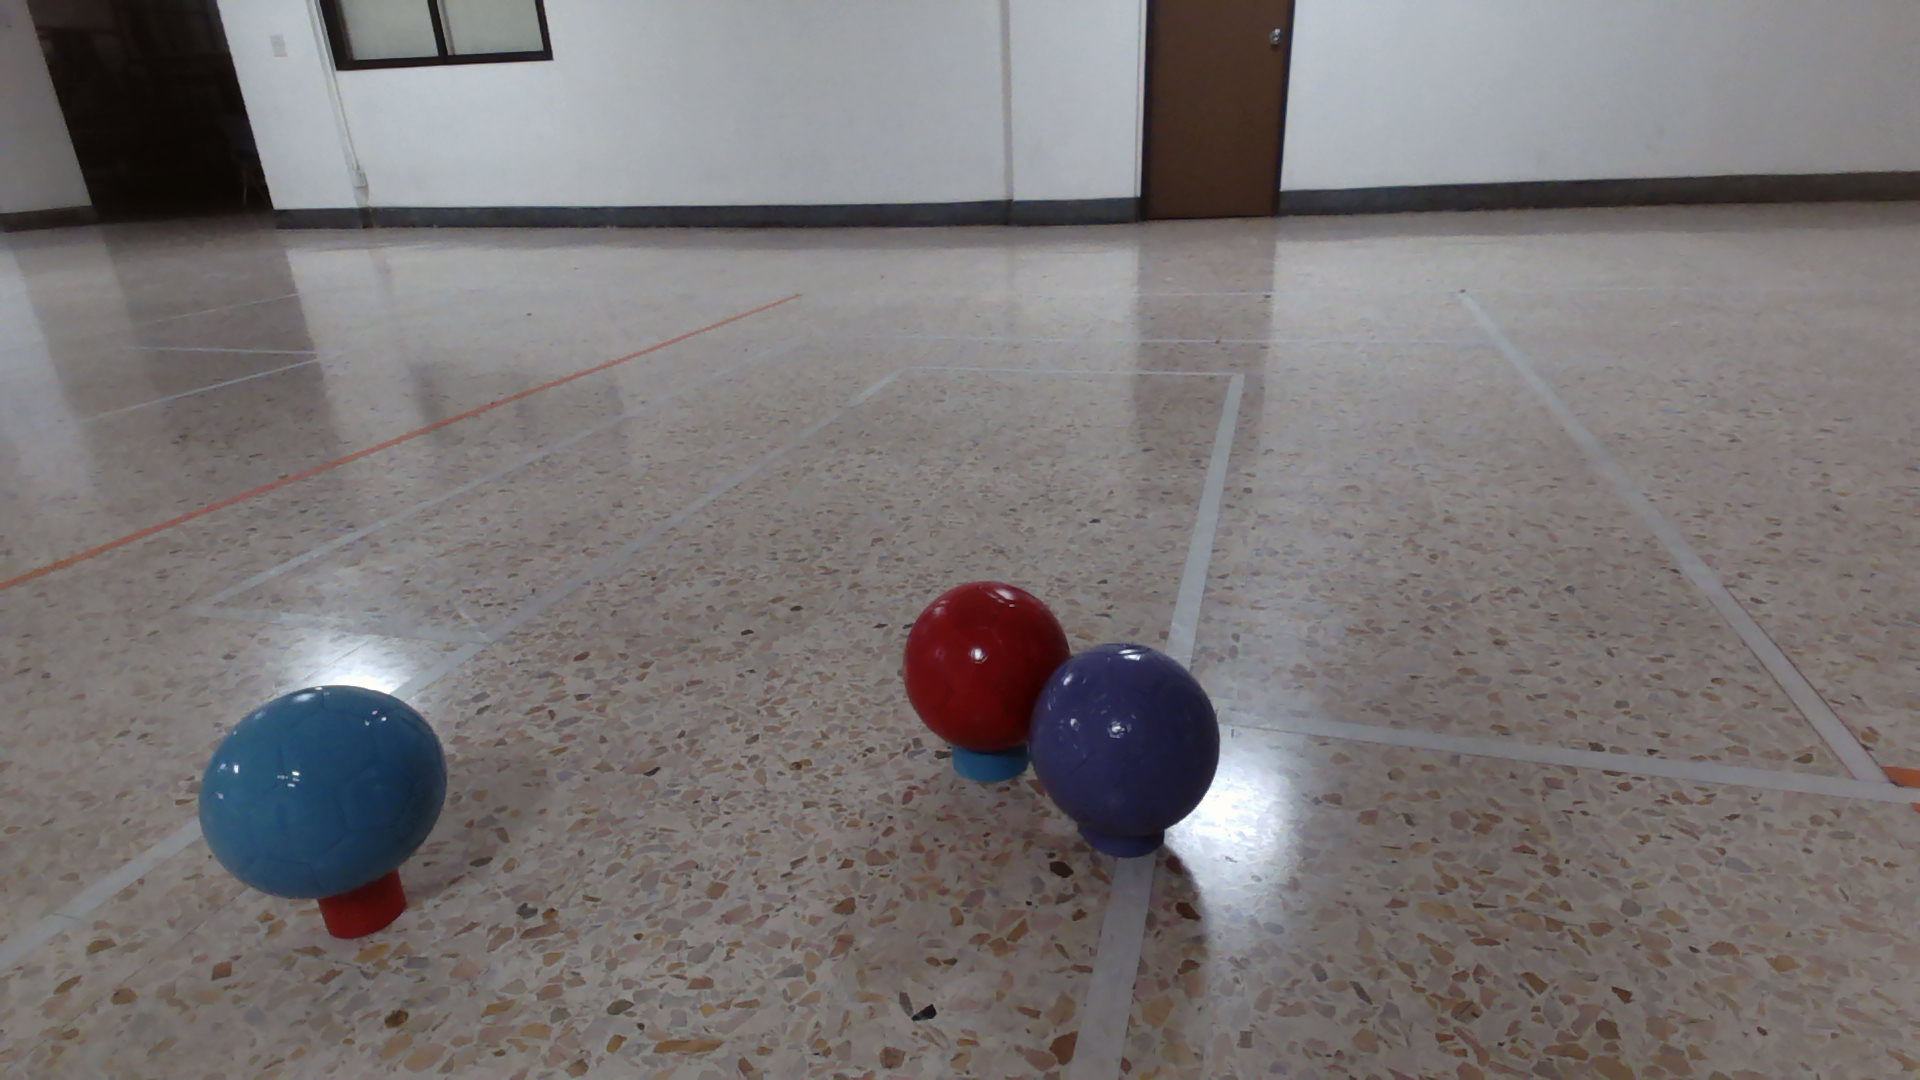Blue ball: (196, 680, 448, 901)
Purple ball: (1027, 642, 1224, 839)
Red ball: (899, 579, 1071, 756)
